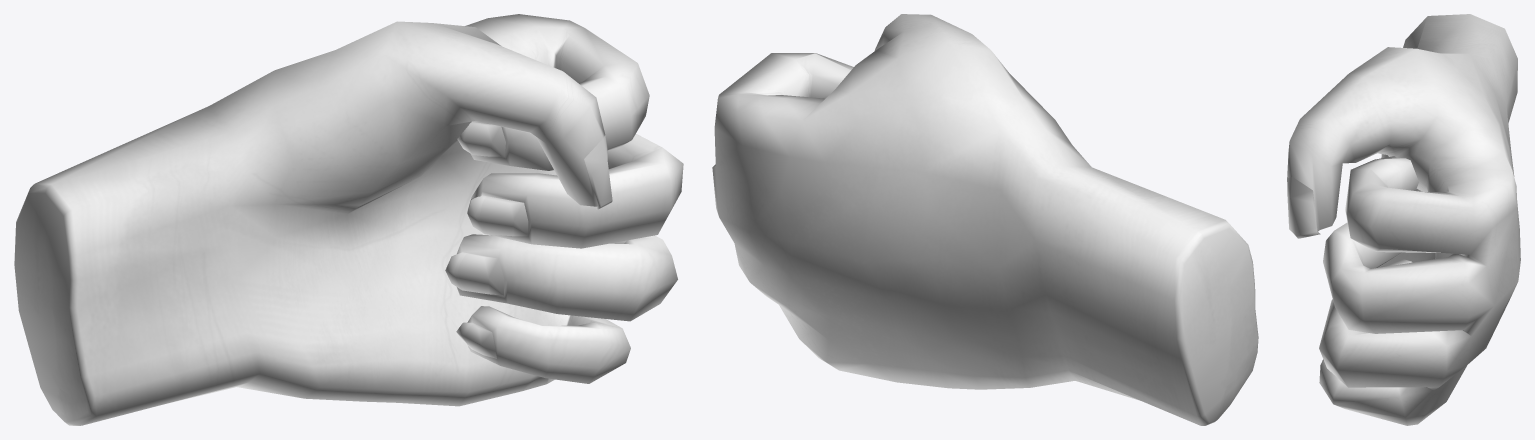
File: l_smooth_rock.glb
The picture shows the model from 3 angles, left to right: view 1: azimuth 30°, elevation 25°; view 2: azimuth 150°, elevation 25°; view 3: azimuth 270°, elevation 25°; orthographic projection. The views are drawn at different scales.
Visible parts, largest first — view 1: L_Smooth_Rock; view 2: L_Smooth_Rock; view 3: L_Smooth_Rock.
Part boxes in pixels (bbox=[...]): L_Smooth_Rock: bbox=[14, 14, 683, 425]; L_Smooth_Rock: bbox=[712, 14, 1258, 425]; L_Smooth_Rock: bbox=[1287, 14, 1520, 425].
Size of the model in its own units: 0.1743 by 0.1105 by 0.0732.
Materials: 1 (1 with a texture image).
